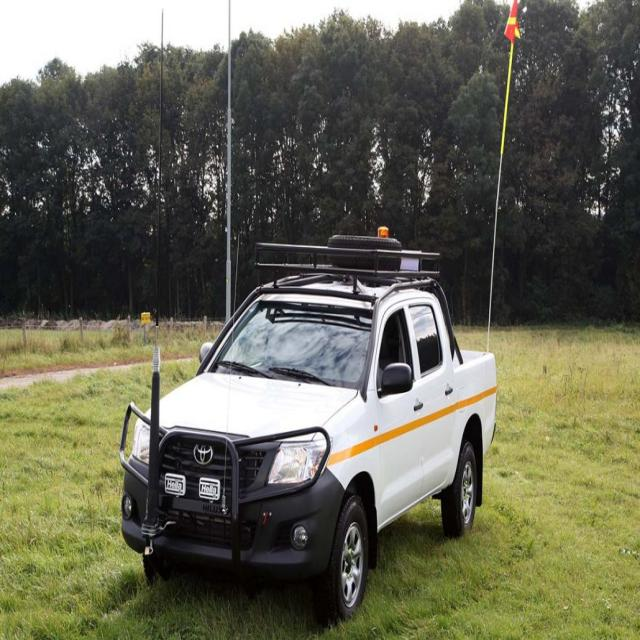light_vehicle: (111, 244, 510, 615)
